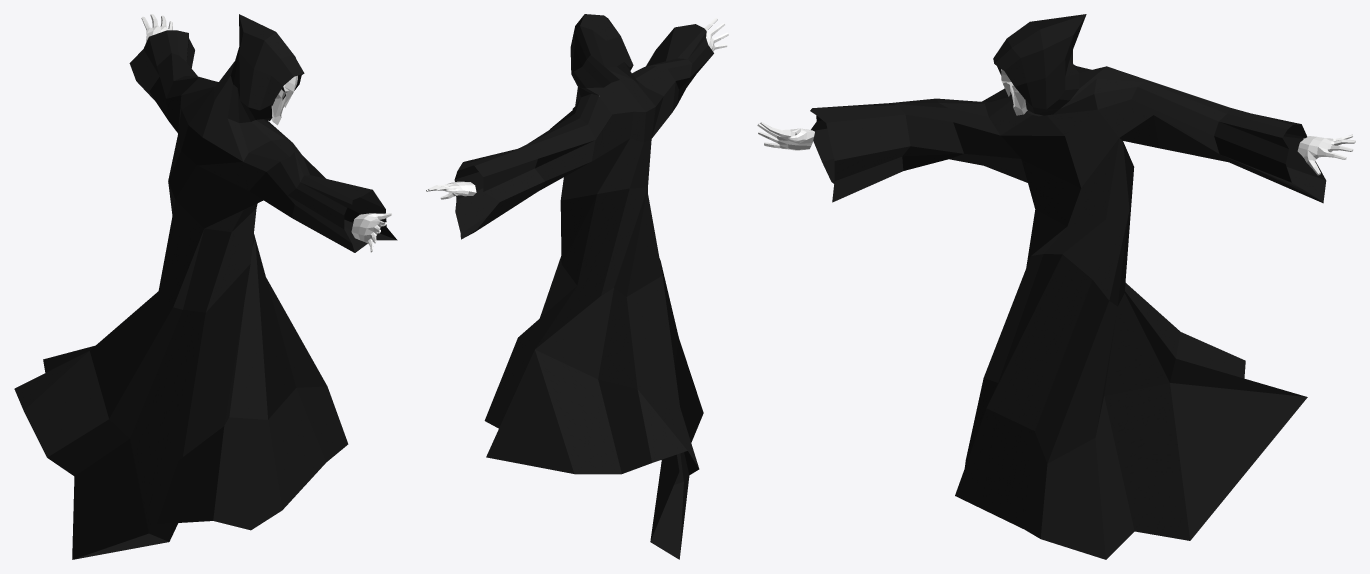
Rendered from ReaperAttack(32).obj.
3 views of the same model, side by side, from view 1: azimuth 30°, elevation 25°; view 2: azimuth 150°, elevation 25°; view 3: azimuth 270°, elevation 25° (orthographic). The views are drawn at different scales.
Parts seen in each view (by area): view 1: Plane003; view 2: Plane003; view 3: Plane003.
Boxes of the visible parts, x1,y1,x2,y2 form: Plane003: [14, 14, 397, 559]; Plane003: [426, 14, 728, 559]; Plane003: [757, 14, 1355, 559].
Bounding box in the file's own units: 118 × 229 × 213.
